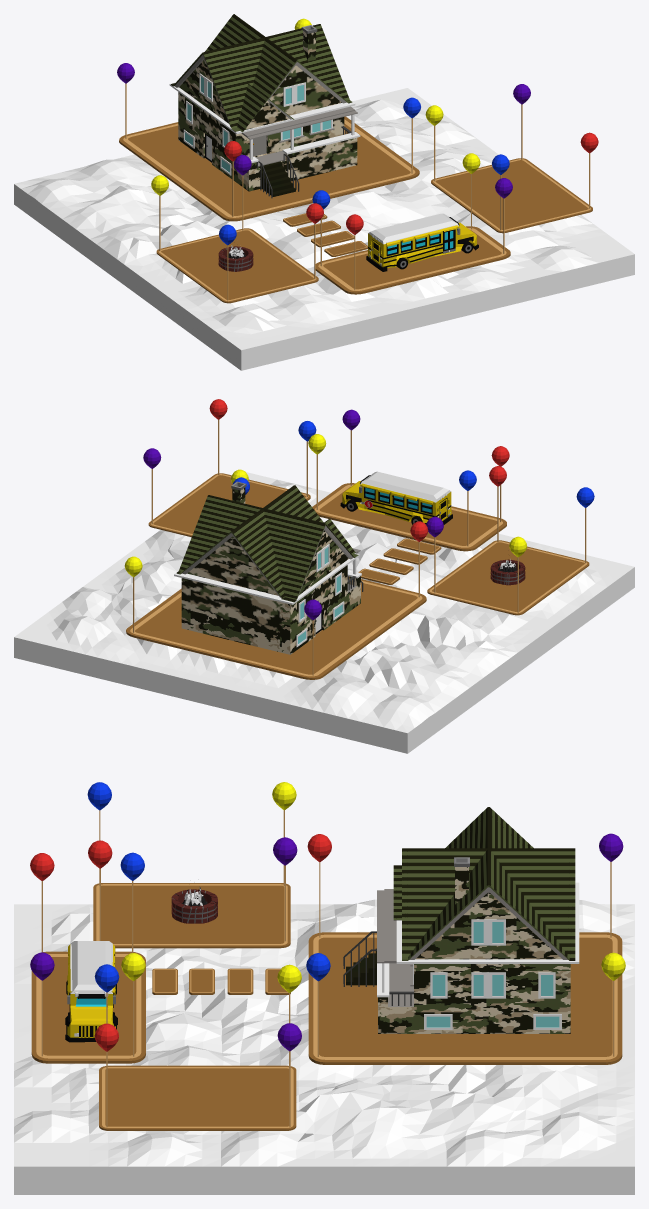
3 views of the same model, one above another, from view 1: azimuth 30°, elevation 25°; view 2: azimuth 150°, elevation 25°; view 3: azimuth 270°, elevation 25° (orthographic). The views are drawn at different scales.
Visible parts, largest first — view 1: Cube.013, Cube.001, VEHICLES_SCHOOL_BUS, OBJRANDOM_CAMPFIRE; view 2: Cube.013, Cube.001, VEHICLES_SCHOOL_BUS, OBJRANDOM_CAMPFIRE; view 3: Cube.013, Cube.001, VEHICLES_SCHOOL_BUS, OBJRANDOM_CAMPFIRE.
Boxes of the visible parts, x1,y1,x2,y2 form: Cube.013: [14, 18, 634, 370]; Cube.001: [169, 14, 360, 198]; VEHICLES_SCHOOL_BUS: [366, 213, 478, 271]; OBJRANDOM_CAMPFIRE: [218, 245, 253, 271]; Cube.013: [14, 399, 634, 753]; Cube.001: [174, 481, 363, 654]; VEHICLES_SCHOOL_BUS: [340, 471, 452, 524]; OBJRANDOM_CAMPFIRE: [490, 559, 525, 585]; Cube.013: [14, 782, 634, 1194]; Cube.001: [343, 807, 579, 1033]; VEHICLES_SCHOOL_BUS: [65, 941, 117, 1042]; OBJRANDOM_CAMPFIRE: [171, 887, 217, 923].
Bounding box in the file's own units: 4000 × 1694 × 4000.
Materials: 32 (3 with a texture image).
